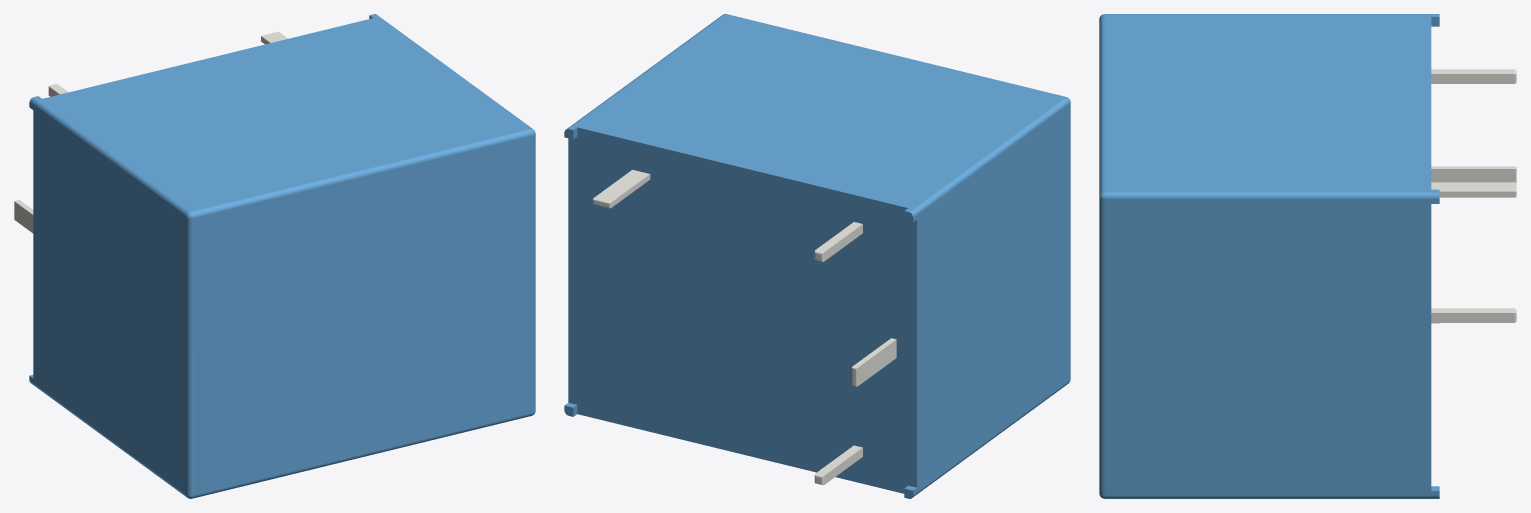
The model's file is Relay_SPST_SANYOU_SRD_Series_Form_B.glb.
The picture shows the model from 3 angles, left to right: view 1: azimuth 30°, elevation 25°; view 2: azimuth 150°, elevation 25°; view 3: azimuth 270°, elevation 25°; orthographic projection. The views are drawn at different scales.
Parts seen in each view (by area): view 1: Shape_IndexedFaceSet.060, Shape_IndexedFaceSet.011, Shape_IndexedFaceSet.017, Shape_IndexedFaceSet.036, Shape_IndexedFaceSet.042, Shape_IndexedFaceSet.037, Shape_IndexedFaceSet.045, Shape_IndexedFaceSet.039; view 2: Shape_IndexedFaceSet.007, Shape_IndexedFaceSet.011, Shape_IndexedFaceSet.017, Shape_IndexedFaceSet.037, Shape_IndexedFaceSet.026, Shape_IndexedFaceSet.031; view 3: Shape_IndexedFaceSet.014, Shape_IndexedFaceSet.011, Shape_IndexedFaceSet.035, Shape_IndexedFaceSet.039, Shape_IndexedFaceSet.040, Shape_IndexedFaceSet.028, Shape_IndexedFaceSet.036, Shape_IndexedFaceSet.008, Shape_IndexedFaceSet.024, Shape_IndexedFaceSet.031, Shape_IndexedFaceSet.032.
Boxes of the visible parts, x1,y1,x2,y2 form: Shape_IndexedFaceSet.060: (193, 135, 532, 495); Shape_IndexedFaceSet.011: (34, 14, 529, 211); Shape_IndexedFaceSet.017: (29, 103, 185, 494); Shape_IndexedFaceSet.036: (191, 129, 532, 217); Shape_IndexedFaceSet.042: (186, 217, 192, 495); Shape_IndexedFaceSet.037: (29, 97, 190, 216); Shape_IndexedFaceSet.045: (192, 413, 532, 498); Shape_IndexedFaceSet.039: (533, 134, 535, 412); Shape_IndexedFaceSet.007: (568, 127, 916, 493); Shape_IndexedFaceSet.011: (569, 14, 1064, 211); Shape_IndexedFaceSet.017: (913, 103, 1069, 494); Shape_IndexedFaceSet.037: (909, 97, 1069, 217); Shape_IndexedFaceSet.026: (857, 339, 896, 386); Shape_IndexedFaceSet.031: (593, 169, 649, 202); Shape_IndexedFaceSet.014: (1104, 199, 1439, 495); Shape_IndexedFaceSet.011: (1104, 14, 1439, 191); Shape_IndexedFaceSet.035: (1104, 192, 1439, 198); Shape_IndexedFaceSet.039: (1099, 197, 1104, 495); Shape_IndexedFaceSet.040: (1104, 495, 1439, 498); Shape_IndexedFaceSet.028: (1431, 169, 1515, 182); Shape_IndexedFaceSet.036: (1099, 14, 1104, 195); Shape_IndexedFaceSet.008: (1431, 74, 1514, 83); Shape_IndexedFaceSet.024: (1431, 313, 1514, 322); Shape_IndexedFaceSet.031: (1431, 182, 1515, 191); Shape_IndexedFaceSet.032: (1439, 191, 1515, 197).
Bounding box in the file's own units: 7.72 × 6.06 × 7.48.
